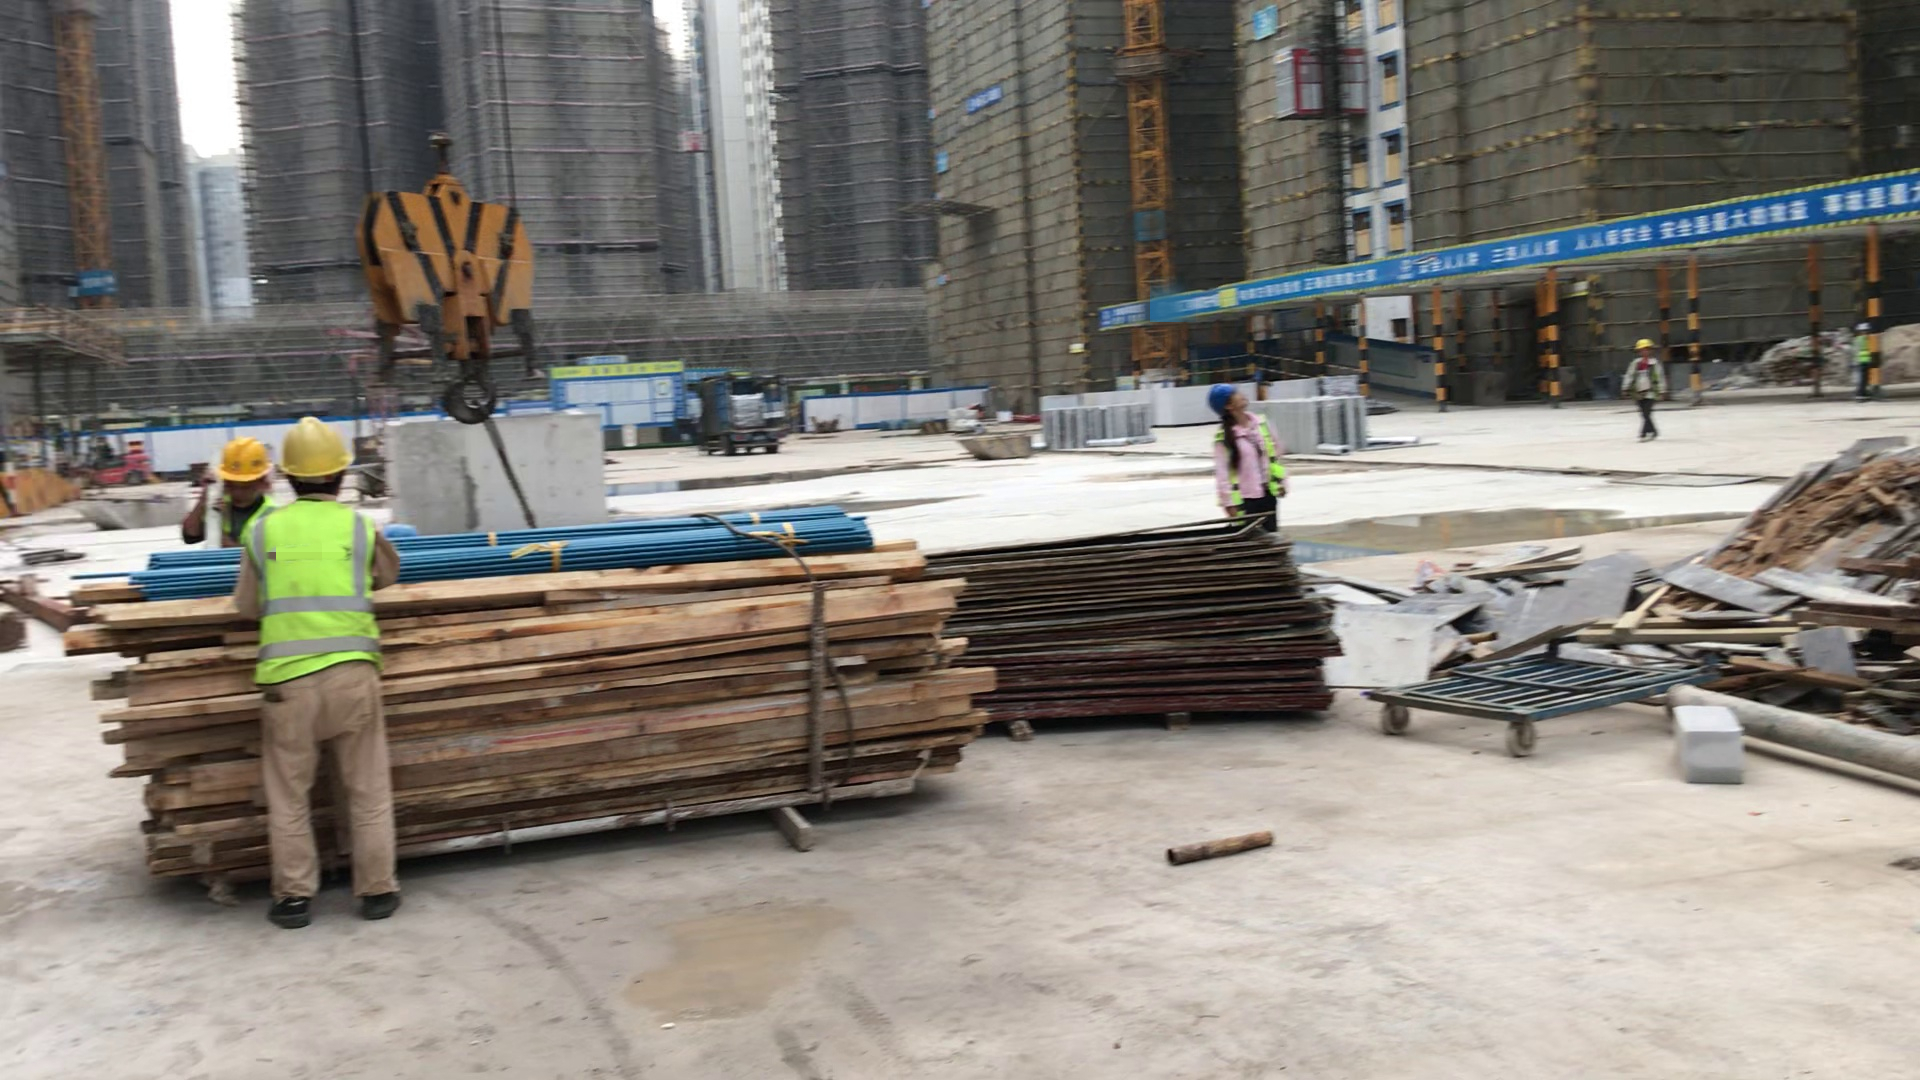board: (955, 543, 1333, 720)
brick: (1153, 388, 1210, 432)
handcart: (1381, 651, 1670, 744)
helmet: (275, 419, 349, 476), (212, 434, 268, 492), (1207, 381, 1237, 411), (1636, 338, 1656, 353), (1854, 322, 1872, 331)
hook: (360, 165, 553, 427)
hopper: (75, 483, 184, 528), (953, 427, 1042, 464)
person: (254, 412, 405, 929), (1210, 383, 1291, 532), (191, 436, 279, 541), (1624, 334, 1666, 442), (1843, 317, 1879, 407)
slogan: (1662, 166, 1913, 243), (960, 78, 1007, 119)
vest: (246, 494, 384, 687), (1252, 412, 1284, 498), (1851, 336, 1873, 365)
wood: (120, 554, 944, 901)
